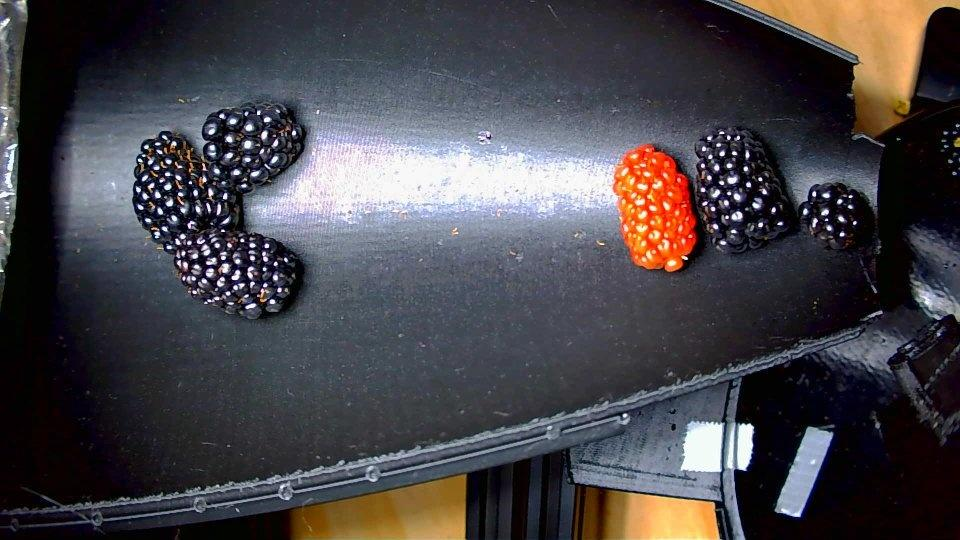berry: (131, 131, 238, 253), (694, 127, 792, 252), (175, 229, 300, 318), (612, 144, 697, 271), (201, 103, 303, 192), (800, 184, 872, 248), (938, 121, 959, 176)
